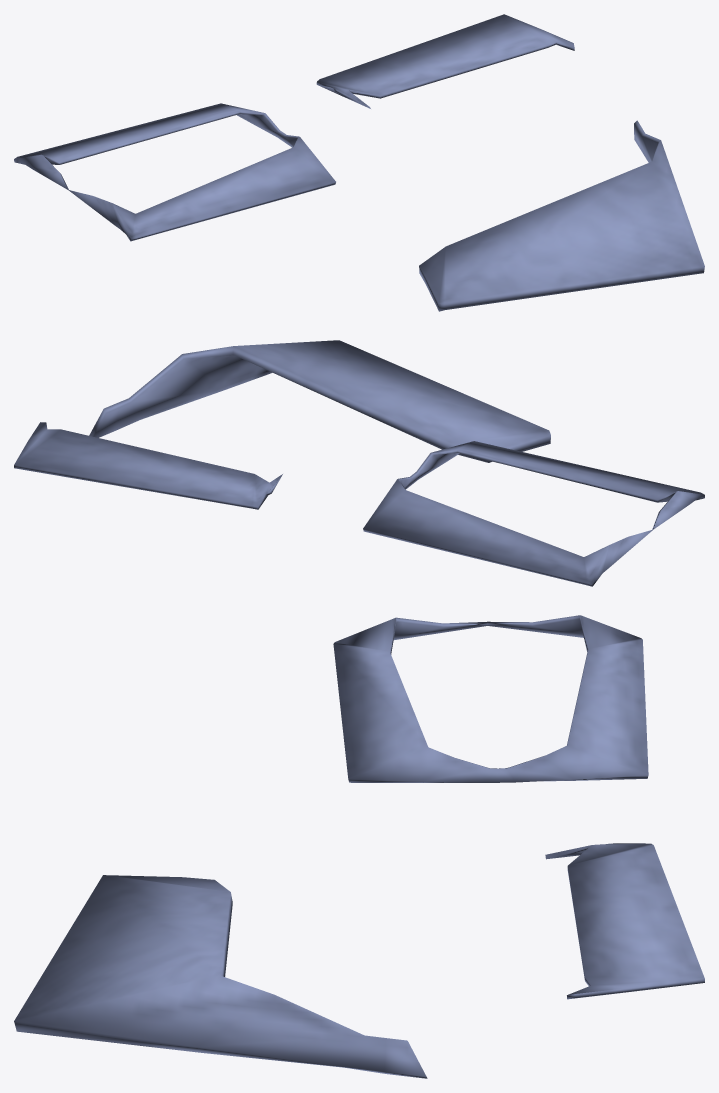
The model's file is TentScraps_LightBlue.obj.
3 views of the same model, one above another, from view 1: azimuth 30°, elevation 25°; view 2: azimuth 150°, elevation 25°; view 3: azimuth 270°, elevation 25° (orthographic). The views are drawn at different scales.
Visible parts, largest first — view 1: TentScraps.001_Material, TentScraps.002_Material, TentScraps_Material; view 2: TentScraps.001_Material, TentScraps.002_Material, TentScraps_Material; view 3: TentScraps.001_Material, TentScraps.002_Material, TentScraps_Material.
Boxes of the visible parts, x1=… form: TentScraps.001_Material: x1=419, y1=120, x2=704, y2=311; TentScraps.002_Material: x1=14, y1=103, x2=335, y2=241; TentScraps_Material: x1=316, y1=14, x2=574, y2=108; TentScraps.001_Material: x1=89, y1=340, x2=550, y2=462; TentScraps.002_Material: x1=363, y1=441, x2=704, y2=586; TentScraps_Material: x1=14, y1=422, x2=282, y2=509; TentScraps.001_Material: x1=14, y1=875, x2=427, y2=1078; TentScraps.002_Material: x1=333, y1=615, x2=648, y2=782; TentScraps_Material: x1=545, y1=843, x2=704, y2=999.
Bounding box in the file's own units: 5.78 × 0.8765 × 4.6.
